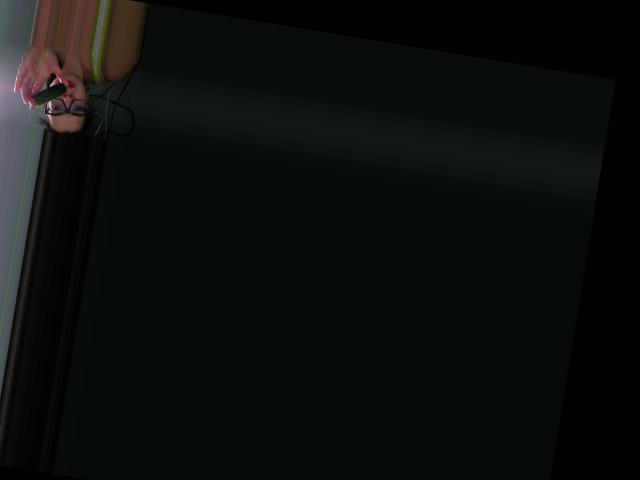cucumber: (32, 79, 68, 110)
